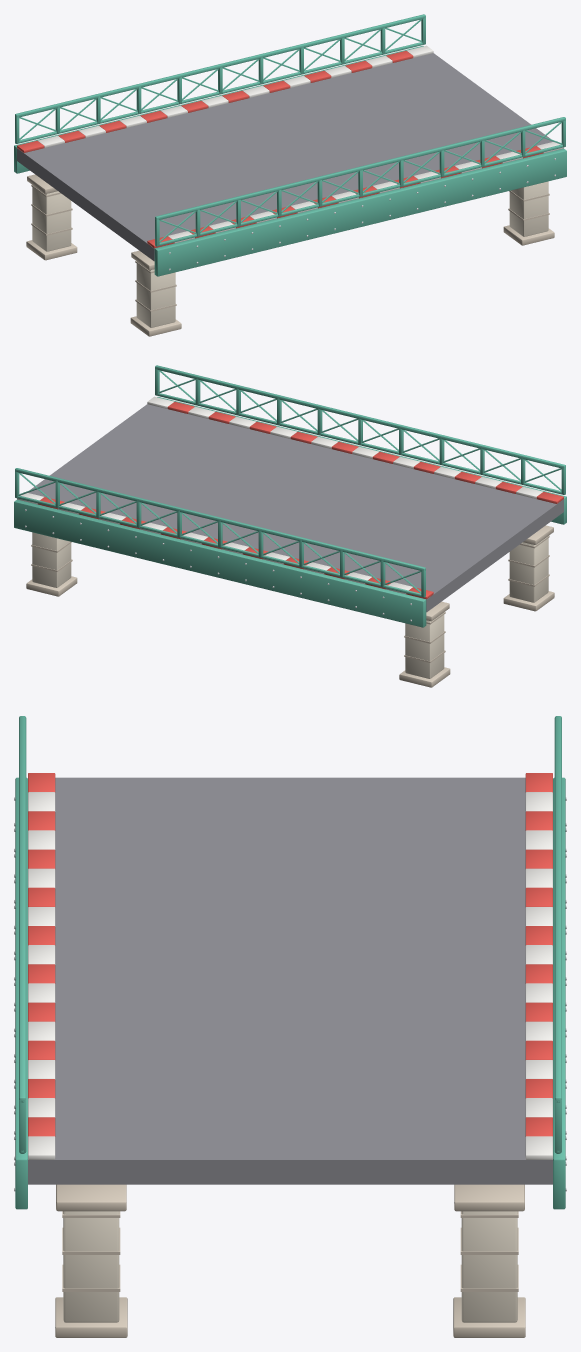
Rendered from bridge.glb.
3 views of the same model, one above another, from view 1: azimuth 30°, elevation 25°; view 2: azimuth 150°, elevation 25°; view 3: azimuth 270°, elevation 25° (orthographic). The views are drawn at different scales.
Parts seen in each view (by area): view 1: bridge; view 2: bridge; view 3: bridge.
Part boxes in pixels (x1,y1,x2,y2): bridge: (14,14,566,336); bridge: (14,365,566,687); bridge: (14,716,566,1337).
Bounding box in the file's own units: 10 × 2.96 × 6.11.
